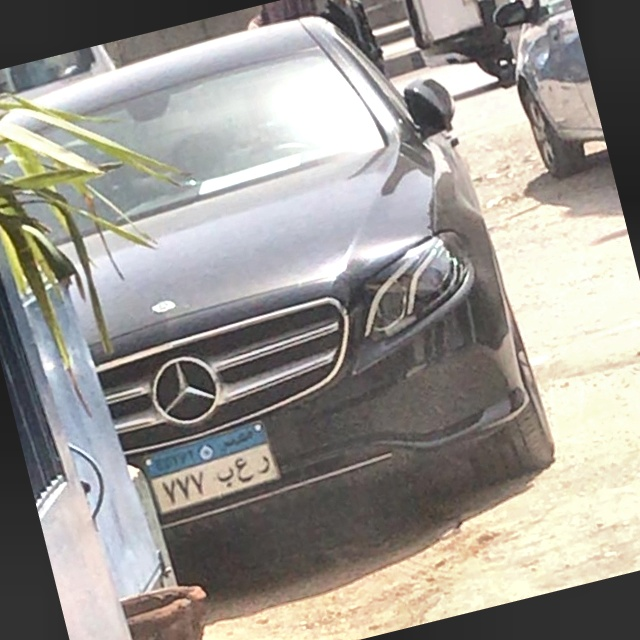License Plate: (136, 416, 287, 520)
